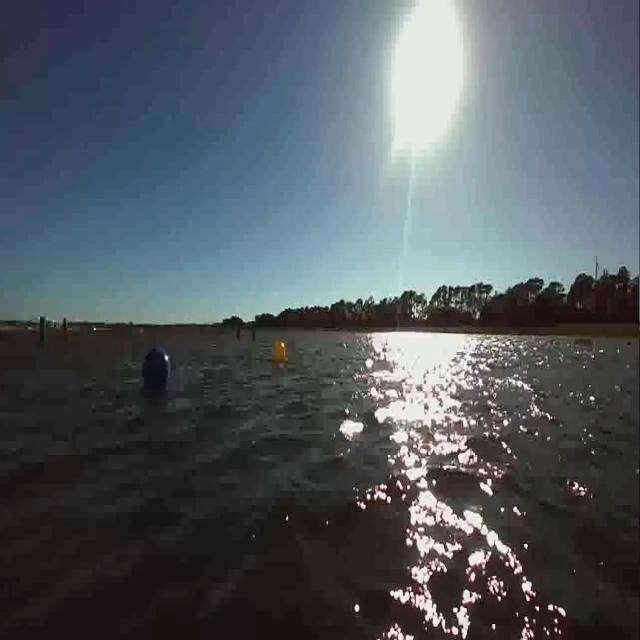black-buoy: (141, 346, 170, 390)
yellow-buoy: (271, 339, 289, 368)
